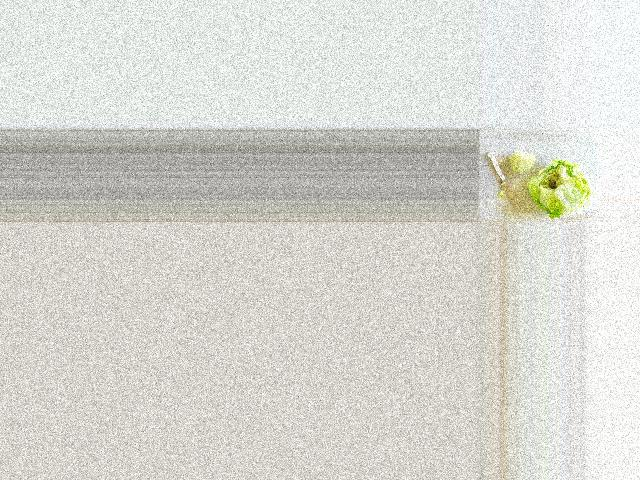lettuce: (533, 159, 596, 216)
